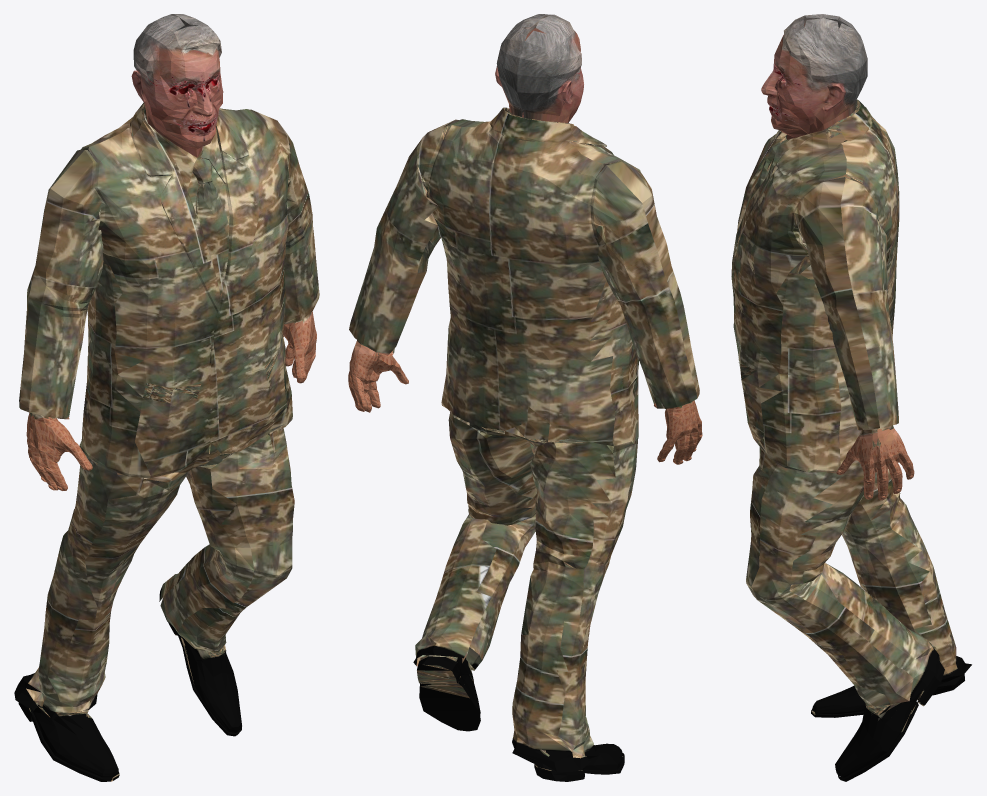
The model's file is zombie_000009.obj.
The picture shows the model from 3 angles, left to right: view 1: azimuth 30°, elevation 25°; view 2: azimuth 150°, elevation 25°; view 3: azimuth 270°, elevation 25°; orthographic projection. The views are drawn at different scales.
Parts seen in each view (by area): view 1: Suit_coat_orig_9___De, objGeo_Hea_orig_9___D; view 2: Suit_coat_orig_9___De, objGeo_Hea_orig_9___D; view 3: Suit_coat_orig_9___De, objGeo_Hea_orig_9___D.
Part boxes in pixels (<box>): Suit_coat_orig_9___De: <box>14,102,319,781</box>; objGeo_Hea_orig_9___D: <box>131,14,223,157</box>; Suit_coat_orig_9___De: <box>348,107,702,781</box>; objGeo_Hea_orig_9___D: <box>495,14,583,122</box>; Suit_coat_orig_9___De: <box>731,99,971,781</box>; objGeo_Hea_orig_9___D: <box>761,14,867,139</box>.
Size of the model in its own units: 0.8721 by 1.89 by 0.5664.
